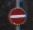No entry: (6, 5, 28, 25)
